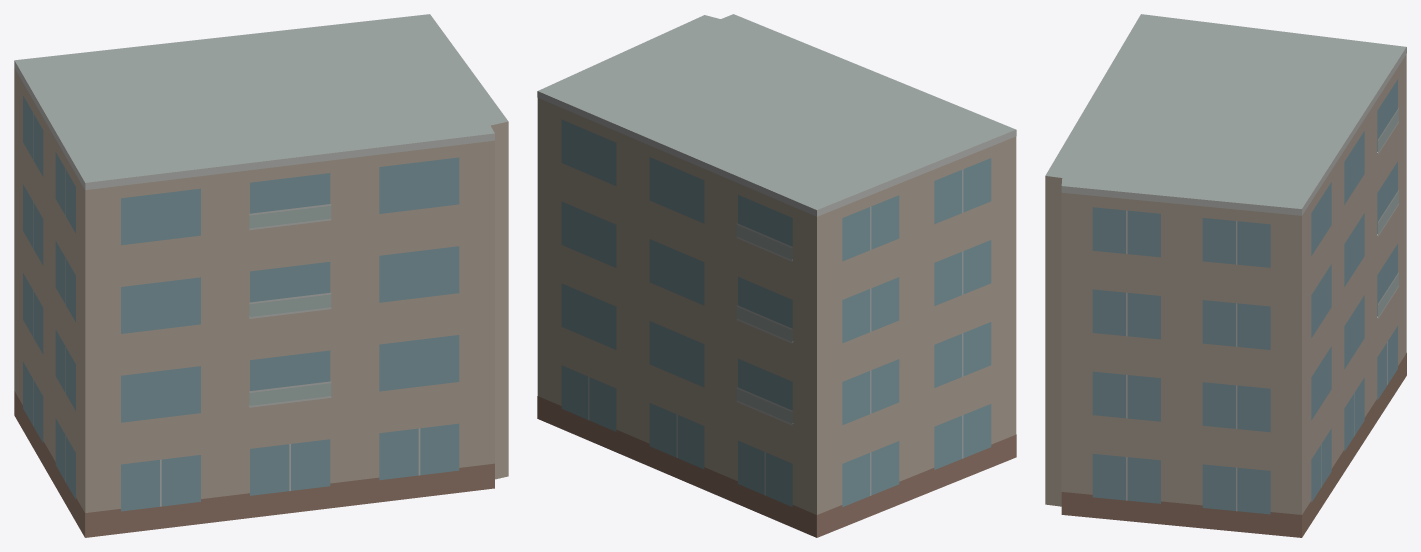
Rendered from survey-upis-33022134.glb.
The picture shows the model from 3 angles, left to right: view 1: azimuth 30°, elevation 25°; view 2: azimuth 150°, elevation 25°; view 3: azimuth 270°, elevation 25°; orthographic projection. The views are drawn at different scales.
Visible parts, largest first — view 1: survey-upis-33022134.tmp; view 2: survey-upis-33022134.tmp; view 3: survey-upis-33022134.tmp.
Boxes of the visible parts, x1,y1,x2,y2 form: survey-upis-33022134.tmp: (14,14,508,537); survey-upis-33022134.tmp: (537,14,1016,537); survey-upis-33022134.tmp: (1045,14,1406,537).
Size of the model in its own units: 15.3 by 12.01 by 11.98.
